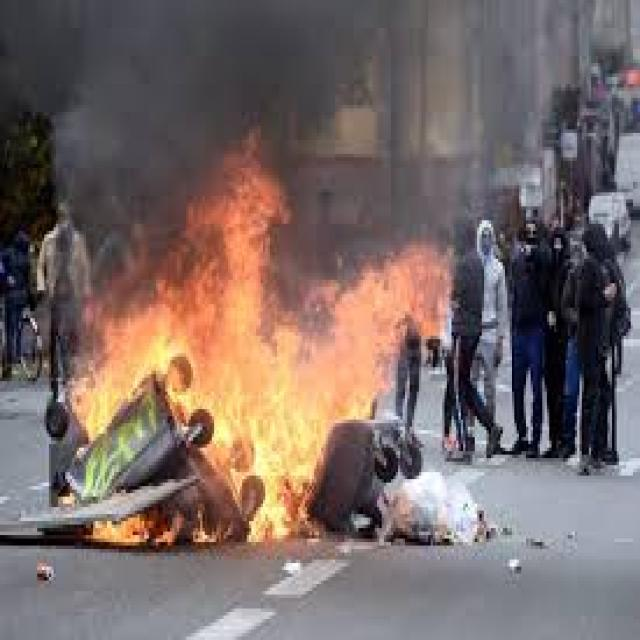Fire: (62, 276, 314, 544), (168, 130, 292, 279), (314, 266, 383, 421), (384, 243, 452, 356)
Smoke: (3, 0, 587, 130), (292, 129, 462, 247), (51, 130, 168, 274)
